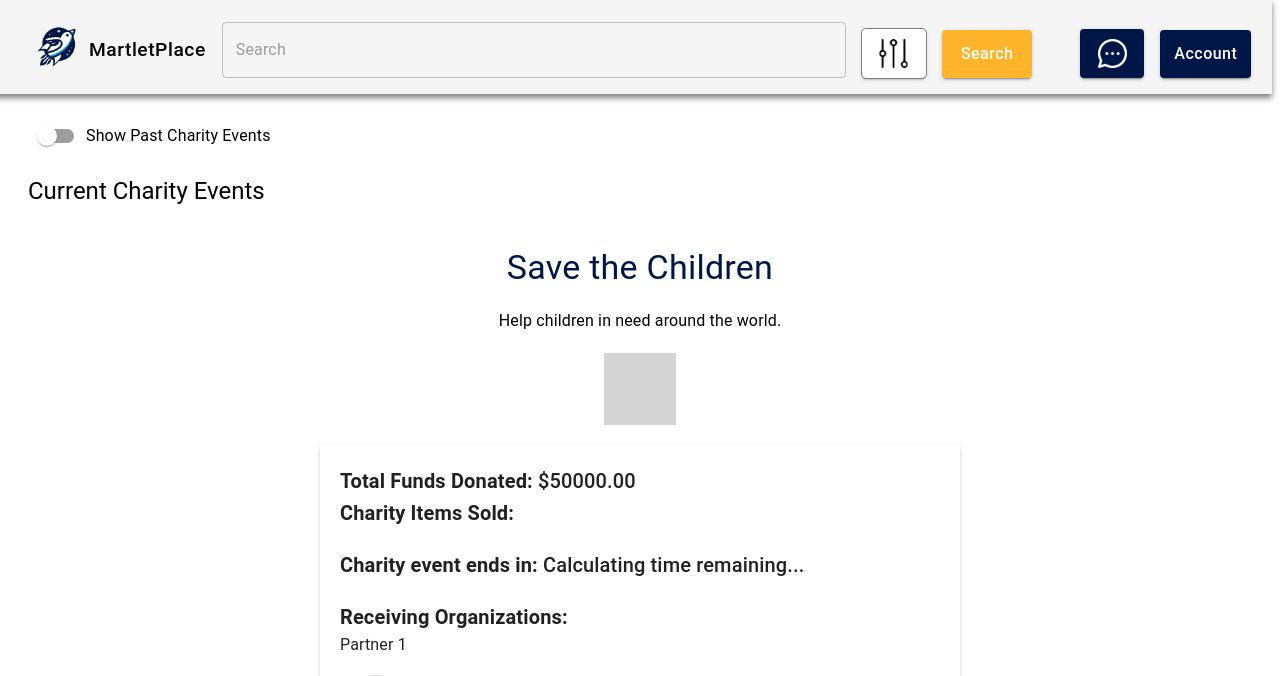
<Charities /> › should indicate if no past charity events
Click the checkbox with id "charitiesSwitch" at (52, 136), box [0,117,104,155]
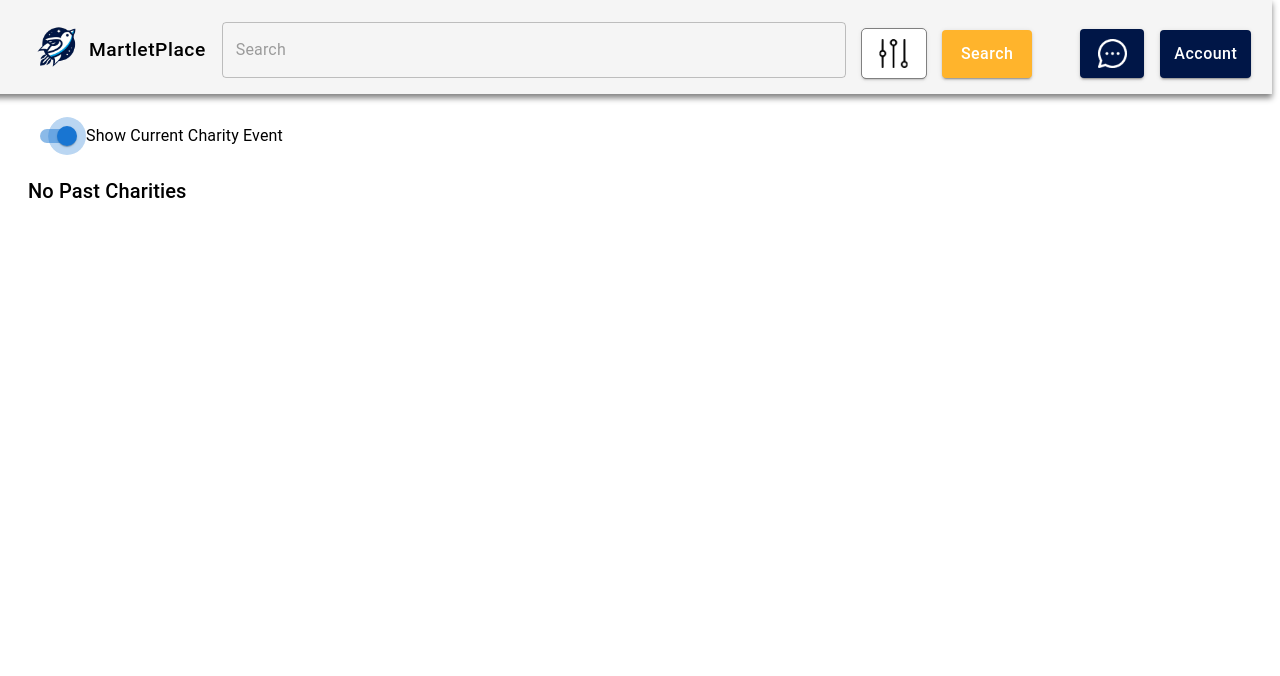
Now the heading "No Past Charities" is shown, box [28,179,187,203]
